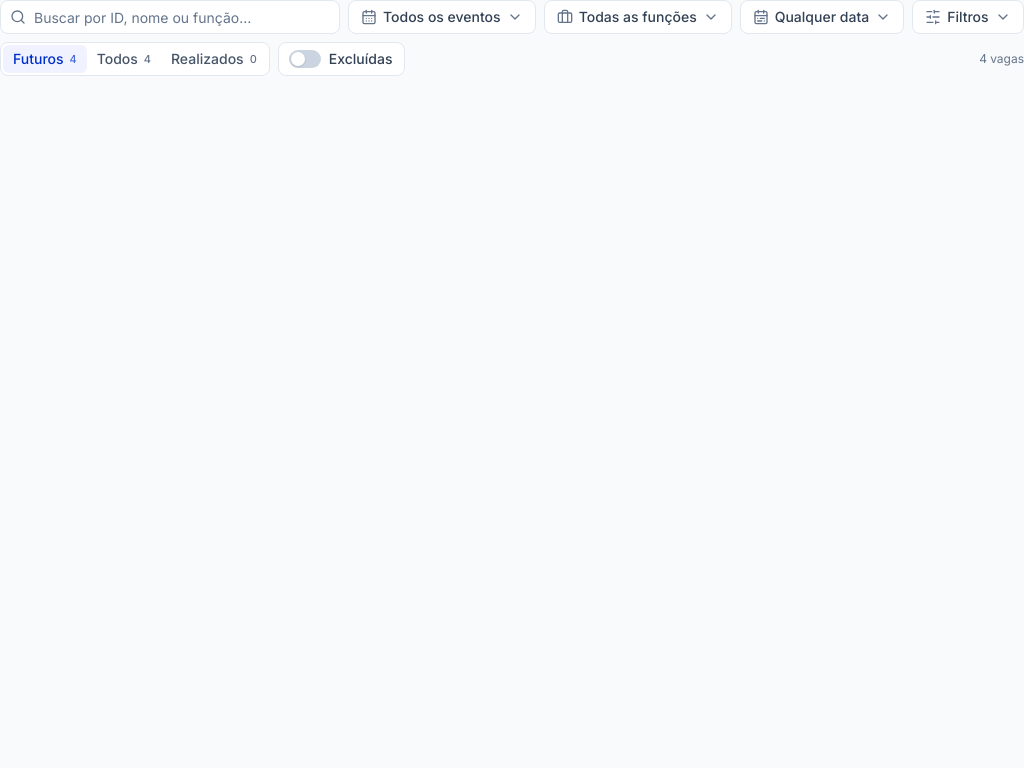
Test case: Fila da Escalação — grupo “Honorário” no painel de filtros › quem lança vê as etapas com o número que a lista mostra
The width and height of the screenshot is (1024, 768).
Click the button with test id "button-filtros": (968,17) [912,0,1023,34]
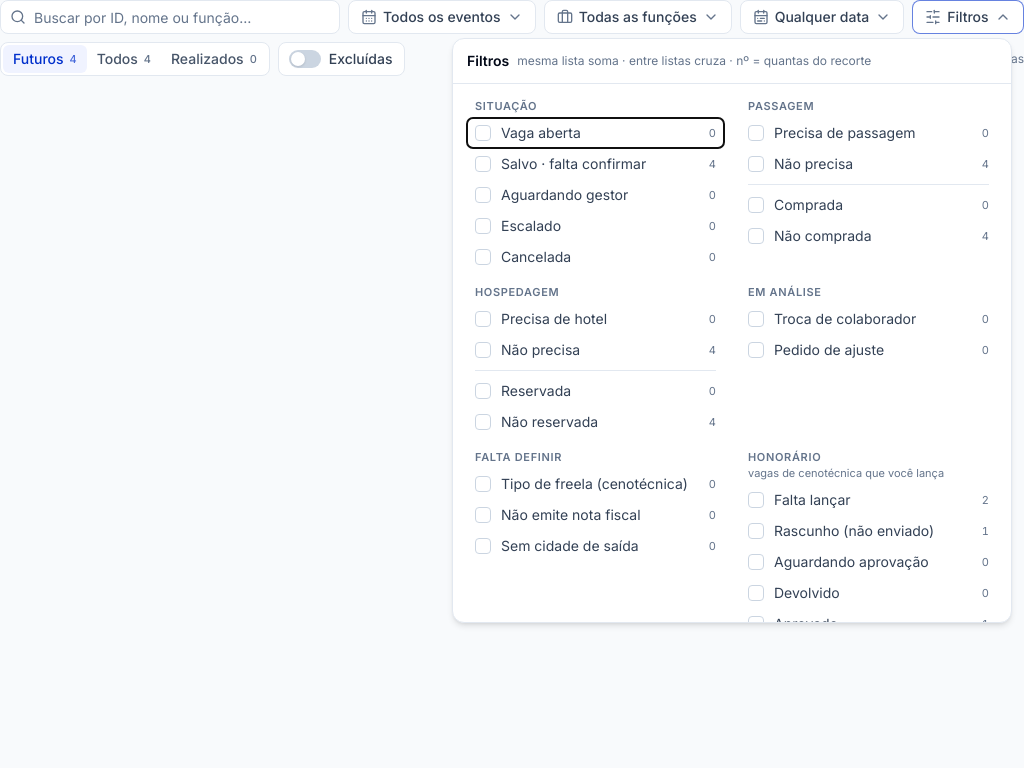
Expected: the text "Honorário" is shown, [748,450,821,464]
Expected: the text with test id "flag-n-hon:falta" reads "2", [982,493,989,507]
Expected: the text with test id "flag-n-hon:rascunho" reads "1", [982,524,989,538]
